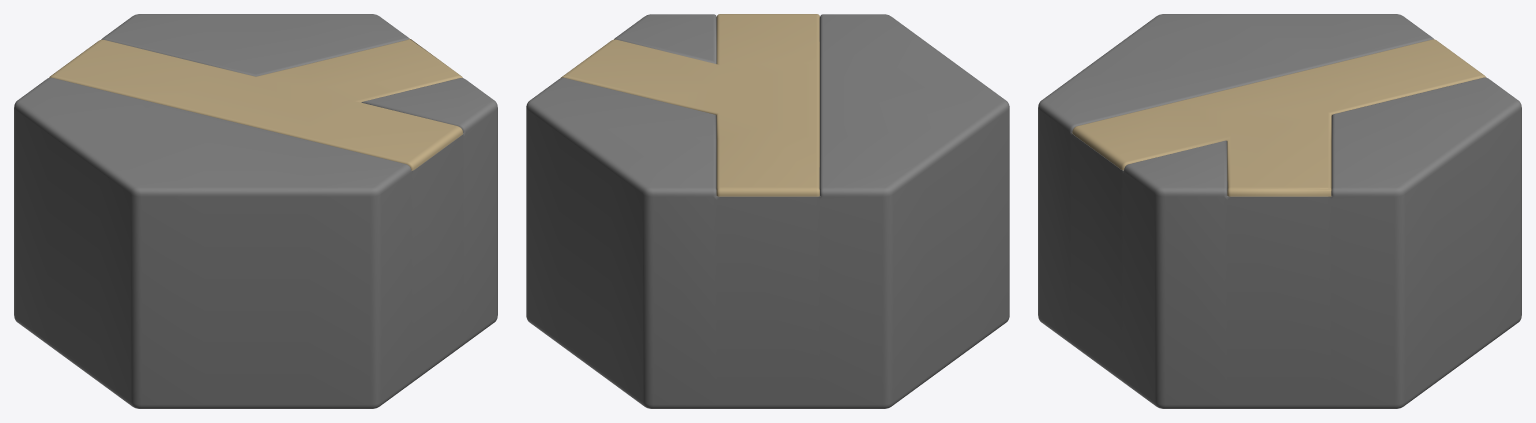
File: Road5.fbx
The picture shows the model from 3 angles, left to right: view 1: azimuth 30°, elevation 25°; view 2: azimuth 150°, elevation 25°; view 3: azimuth 270°, elevation 25°; orthographic projection.
Parts seen in each view (by area): view 1: Cylinder034; view 2: Cylinder034; view 3: Cylinder034.
Boxes of the visible parts, x1,y1,x2,y2 form: Cylinder034: (14,14,497,408); Cylinder034: (526,14,1009,408); Cylinder034: (1038,14,1521,408).
Bounding box in the file's own units: 173 × 100 × 199.
